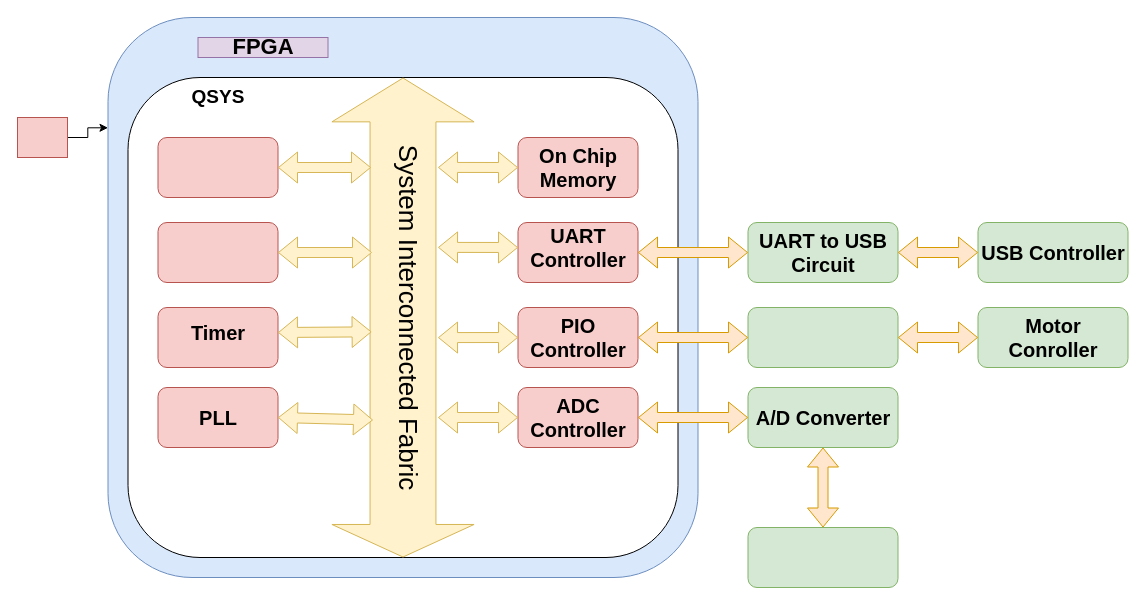
The diagram is 1146 pixels wide and 605 high, and some of its shapes have lost their labels. The centre of each missing label's shape, as x and y in pixels:
"50 MHZ" belongs at pixel 42 137.
"Arduino analog inputs" belongs at pixel 822 557.
"Arduino Digital pins" belongs at pixel 822 337.
"JTAG" belongs at pixel 217 252.
"NIOS ii" belongs at pixel 217 167.
